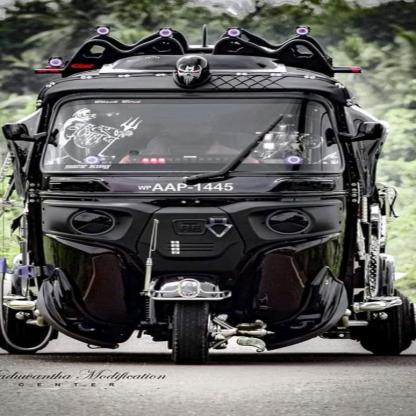number plate: (135, 178, 243, 197)
three wheeler front: (2, 20, 416, 361)
